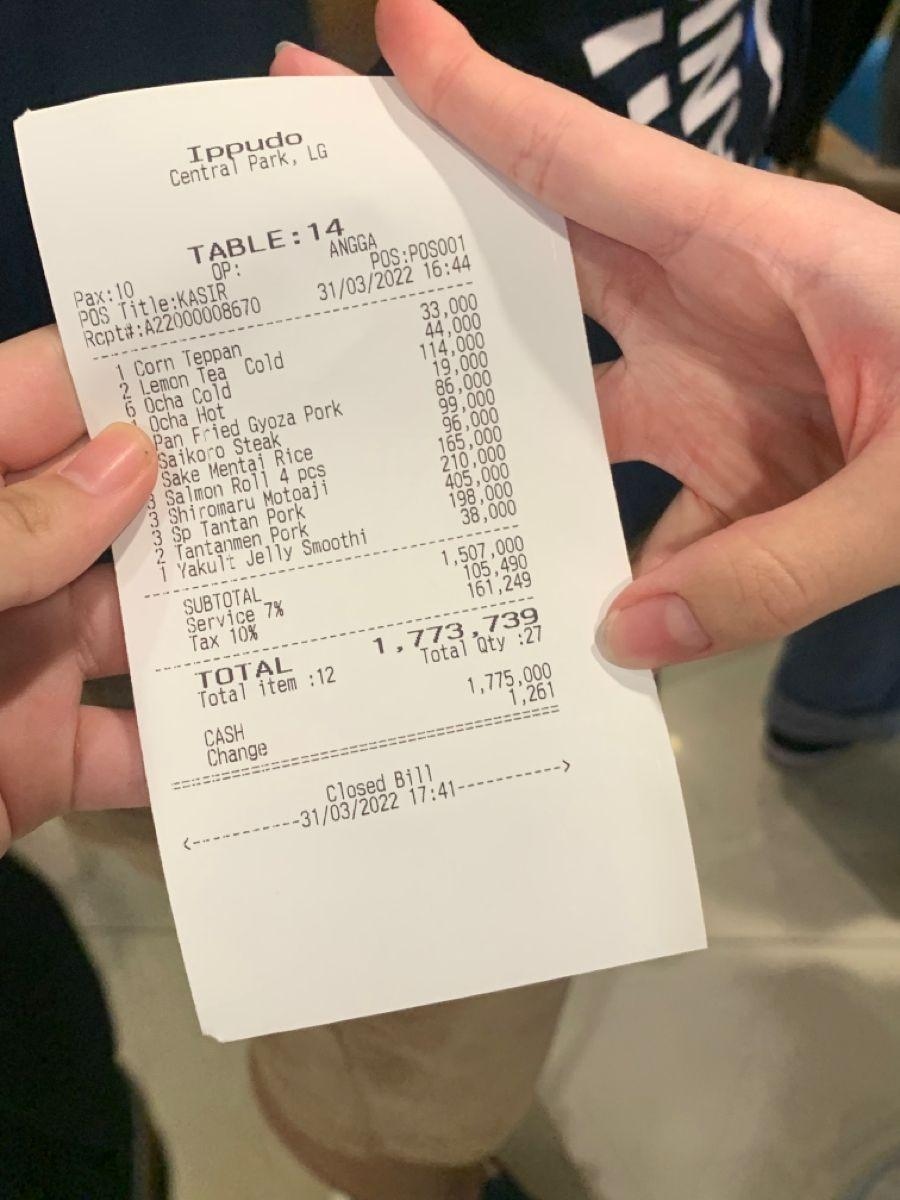receipt-in-hand: (16, 79, 703, 1039)
